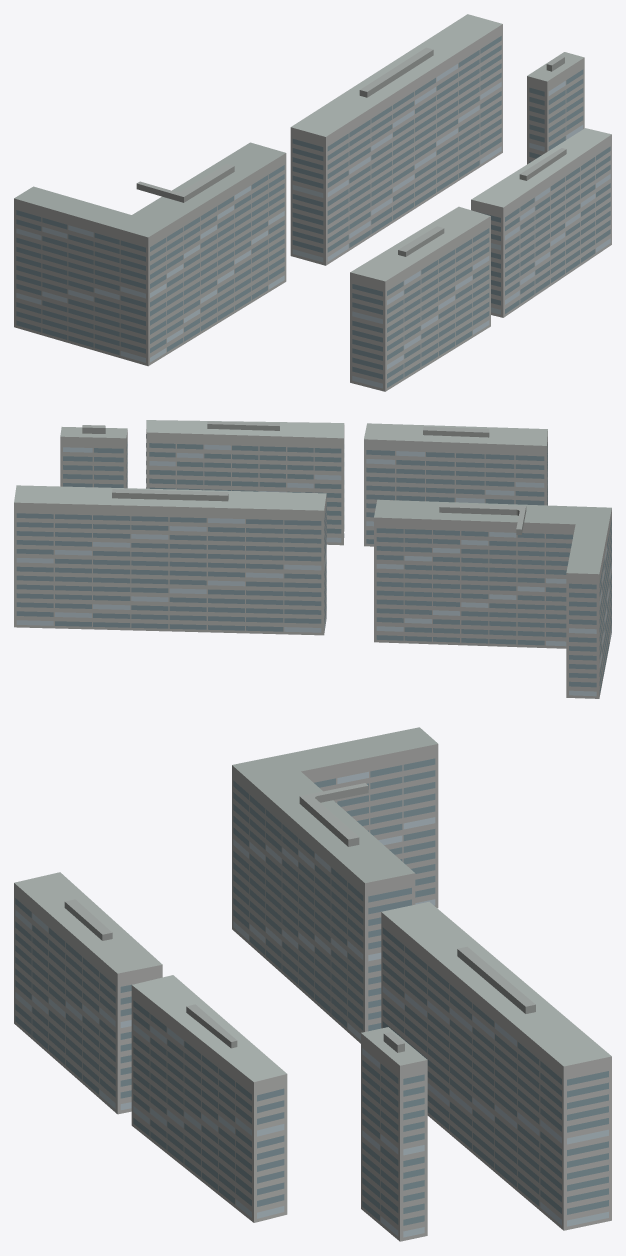
The model's file is apt-a13872504.glb.
3 renders of one model, top to bottom at view 1: azimuth 30°, elevation 25°; view 2: azimuth 150°, elevation 25°; view 3: azimuth 270°, elevation 25°, orthographic. The views are drawn at different scales.
Parts seen in each view (by area): view 1: apt-a13872504; view 2: apt-a13872504; view 3: apt-a13872504.
Part boxes in pixels (x1,y1,x2,y2): apt-a13872504: [14, 14, 611, 391]; apt-a13872504: [14, 420, 611, 698]; apt-a13872504: [14, 727, 611, 1241].
Bounding box in the file's own units: 195 × 47.81 × 141.
